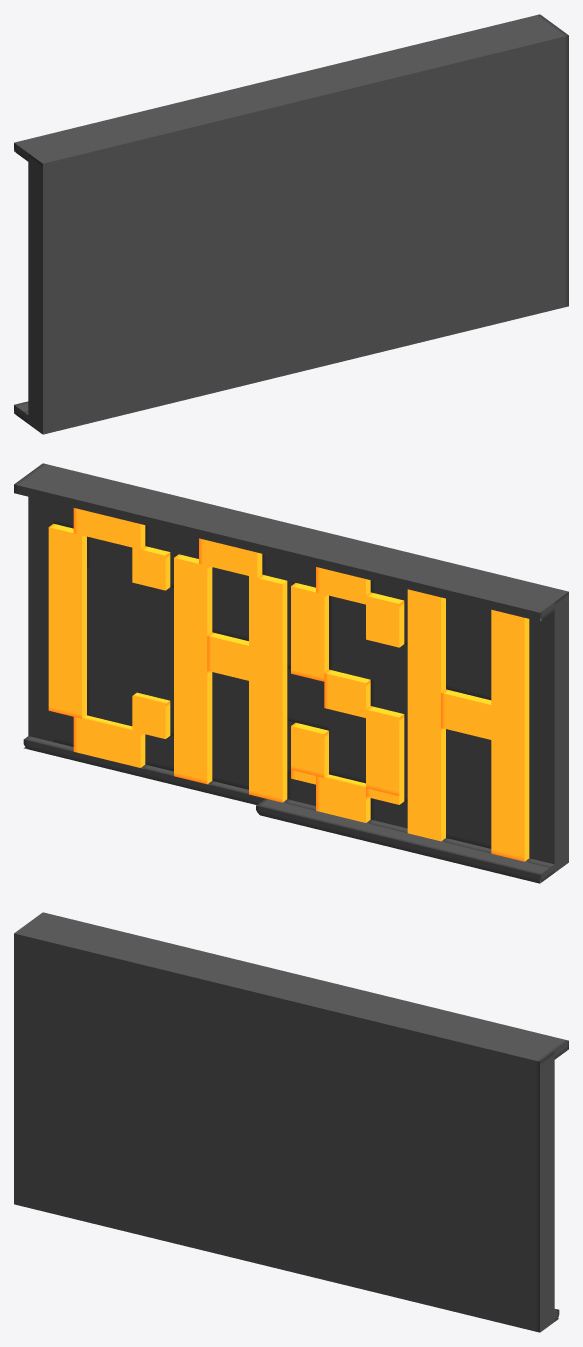
The model's file is neon1.dae.
3 renders of one model, top to bottom at view 1: azimuth 30°, elevation 25°; view 2: azimuth 150°, elevation 25°; view 3: azimuth 330°, elevation 25°, orthographic.
Visible parts, largest first — view 1: Content; view 2: Content; view 3: Content.
Part boxes in pixels (left/top/right/bottom): Content: left=14, top=14, right=568, bottom=434; Content: left=14, top=463, right=568, bottom=883; Content: left=14, top=912, right=568, bottom=1332.
Size of the model in its own units: 63 by 31 by 6.
1 material, 1 textured.
